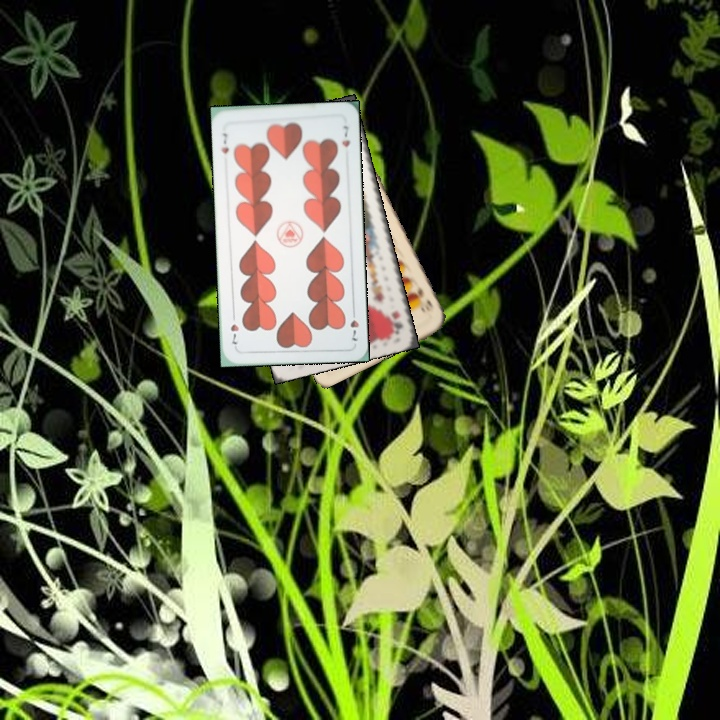E10: (410, 283, 436, 314)
H7: (346, 305, 362, 343), (218, 129, 231, 156)
HK: (387, 307, 405, 336)
